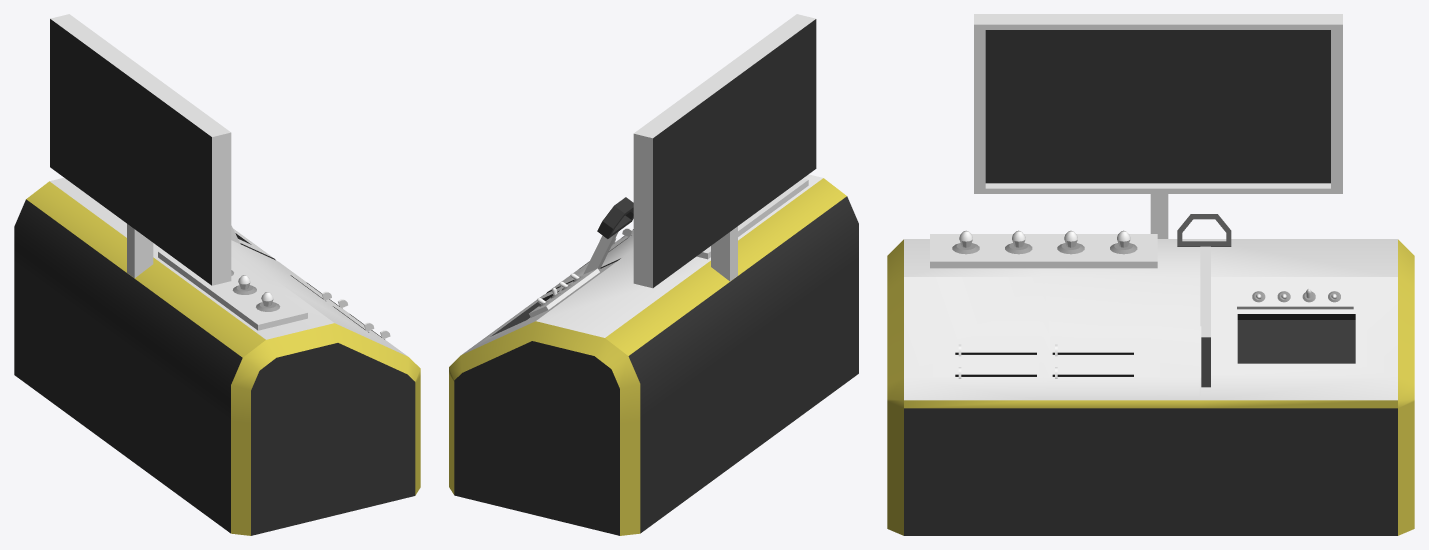
The model's file is monitor white stand.fbx.
3 views of the same model, side by side, from view 1: azimuth 30°, elevation 25°; view 2: azimuth 150°, elevation 25°; view 3: azimuth 270°, elevation 25° (orthographic). The views are drawn at different scales.
Visible parts, largest first — view 1: MainBody; view 2: MainBody, Grapple; view 3: MainBody, Grapple.
Part boxes in pixels (left/top/right/bottom): MainBody: left=14, top=14, right=420, bottom=535; MainBody: left=449, top=14, right=858, bottom=535; Grapple: left=583, top=197, right=633, bottom=274; MainBody: left=887, top=14, right=1414, bottom=535; Grapple: left=1177, top=214, right=1231, bottom=337.
Bounding box in the file's own units: 123 × 231 × 261.
